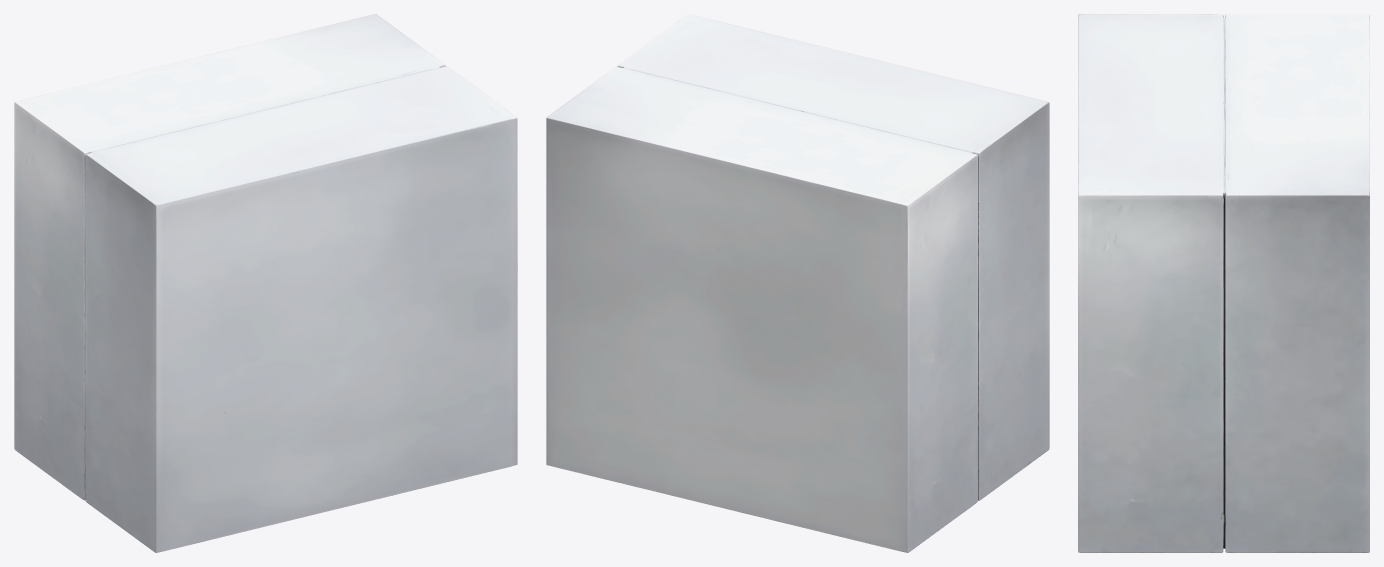
The model's file is white_cabinet.glb.
The picture shows the model from 3 angles, left to right: view 1: azimuth 30°, elevation 25°; view 2: azimuth 150°, elevation 25°; view 3: azimuth 270°, elevation 25°; orthographic projection. The views are drawn at different scales.
Parts seen in each view (by area): view 1: model; view 2: model; view 3: model.
Part boxes in pixels (x1,y1,x2,y2): model: [14, 14, 517, 552]; model: [546, 14, 1049, 552]; model: [1078, 14, 1369, 552].
Bounding box in the file's own units: 0.5588 × 0.5136 × 0.38.
1 material, 1 textured.
